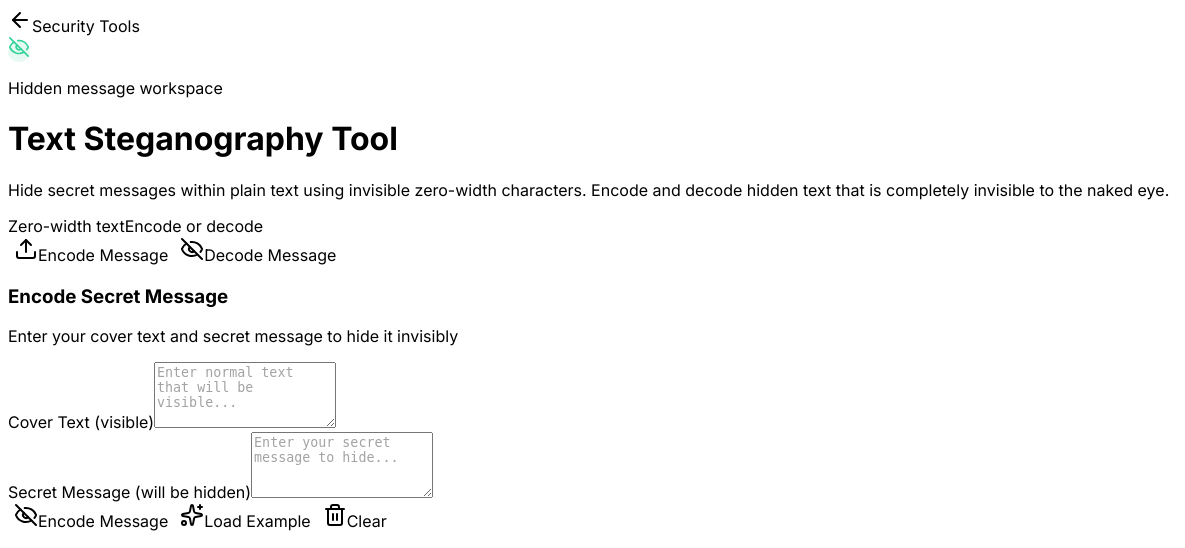
Test case: Steganography Page › Mode Switching › switches to decode mode when decode button is clicked
Step 1. Click the button "Decode Message" → point(258, 251), box x1=174 y1=236 x2=342 y2=266
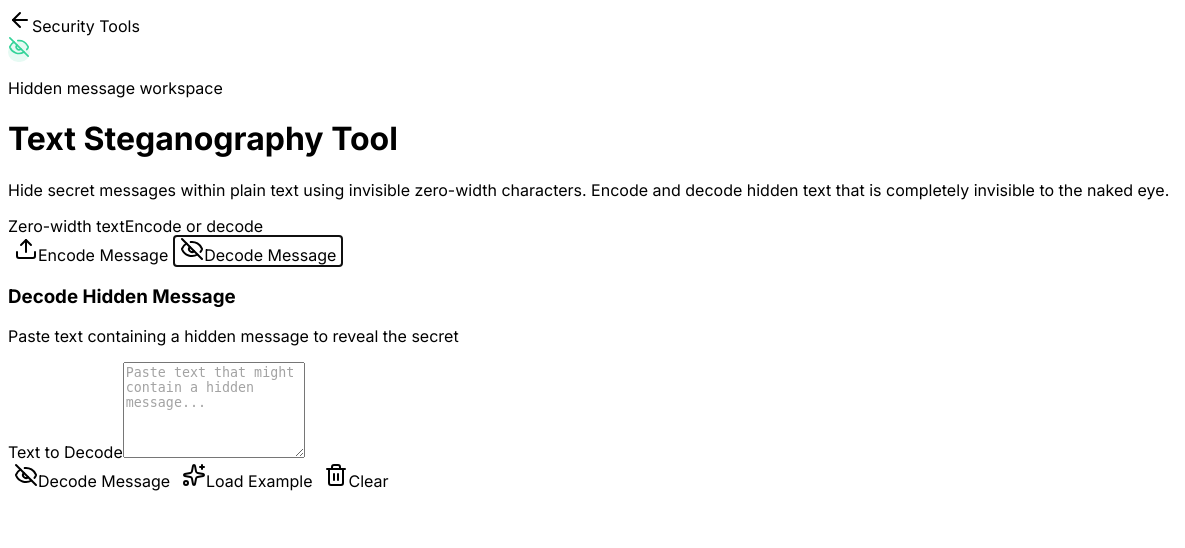
Result: the heading "Decode Hidden Message" is shown at x1=8 y1=285 x2=236 y2=308
